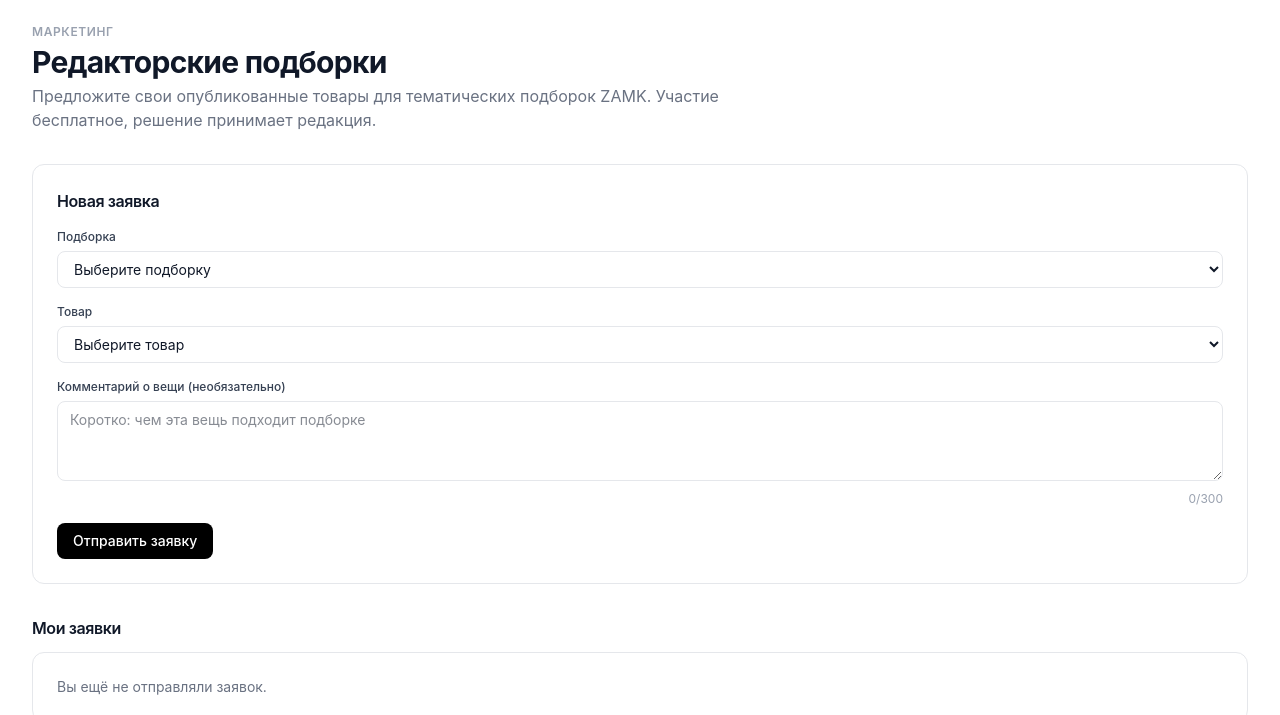
SellerCollections › requires a collection and a product before sending
Click the button with test id "submission-submit": coordinates (135, 541) 57,523 -> 213,559
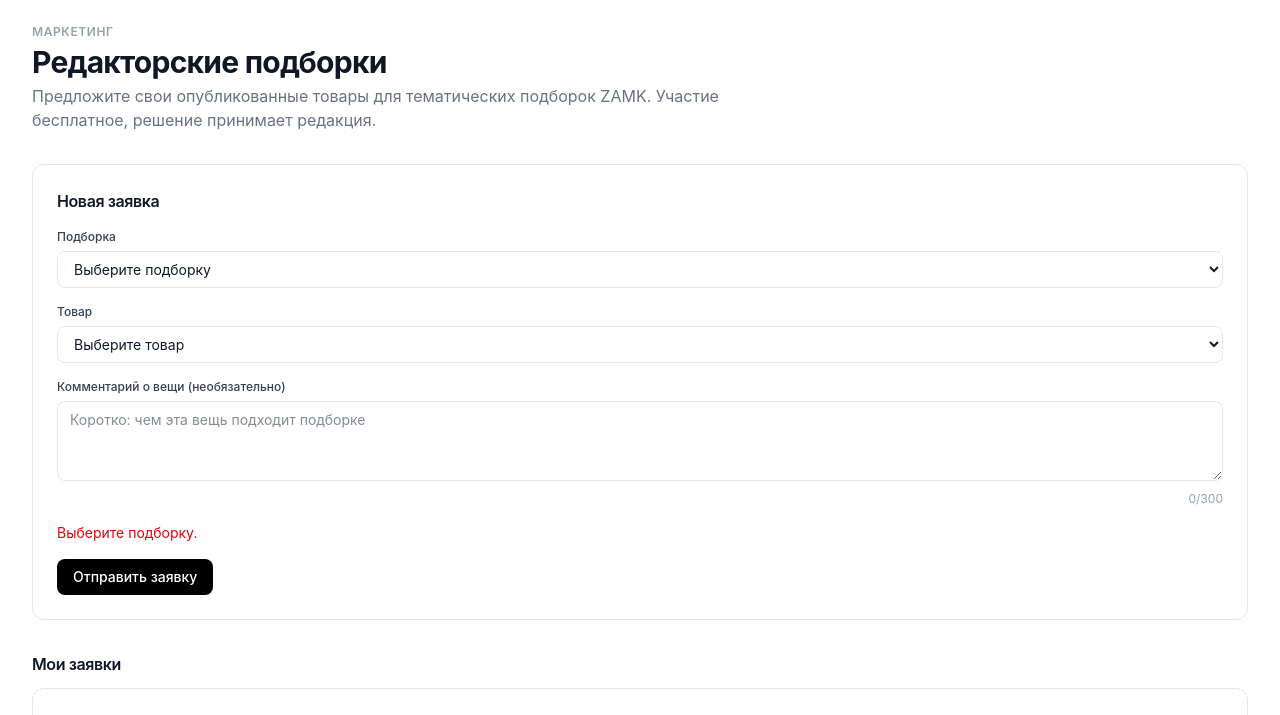
Check: the message shows "Выберите подборку", box 57,524 -> 197,541
Select "Лето" in the dropdown labelled "Подборка": coordinates (640, 270) 57,251 -> 1223,288
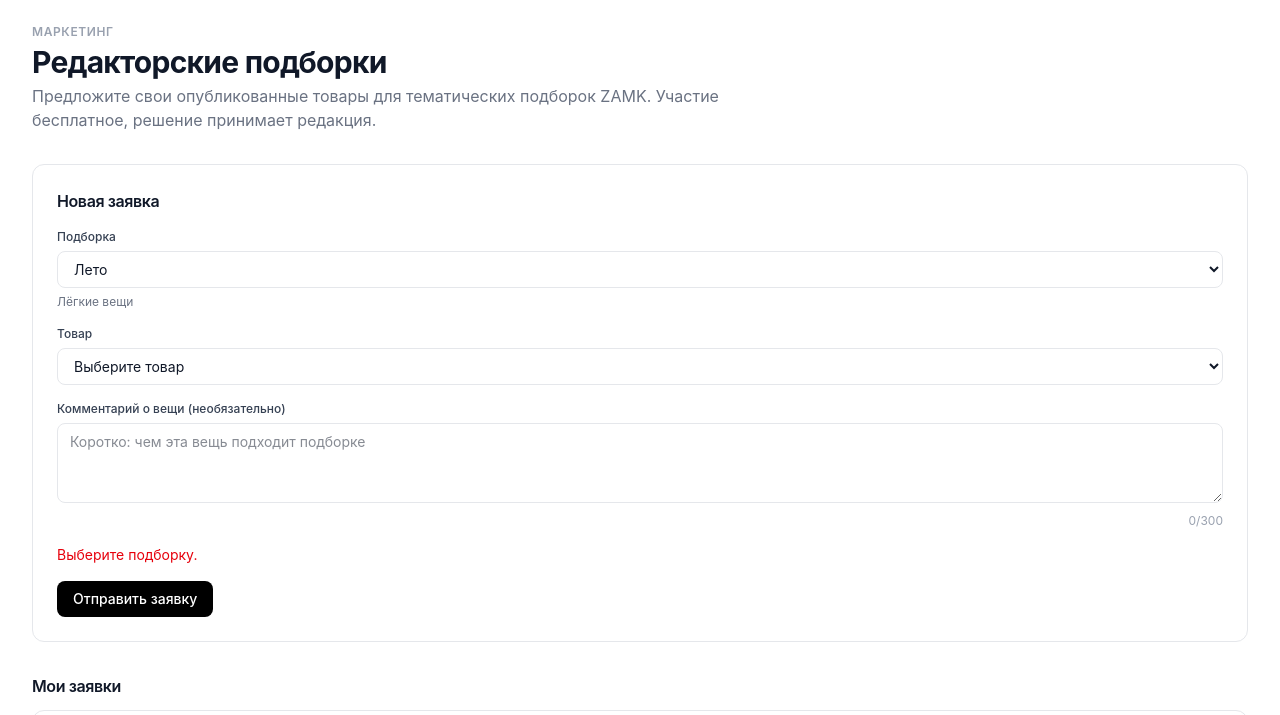
Click the button with test id "submission-submit": coordinates (135, 599) 57,581 -> 213,617
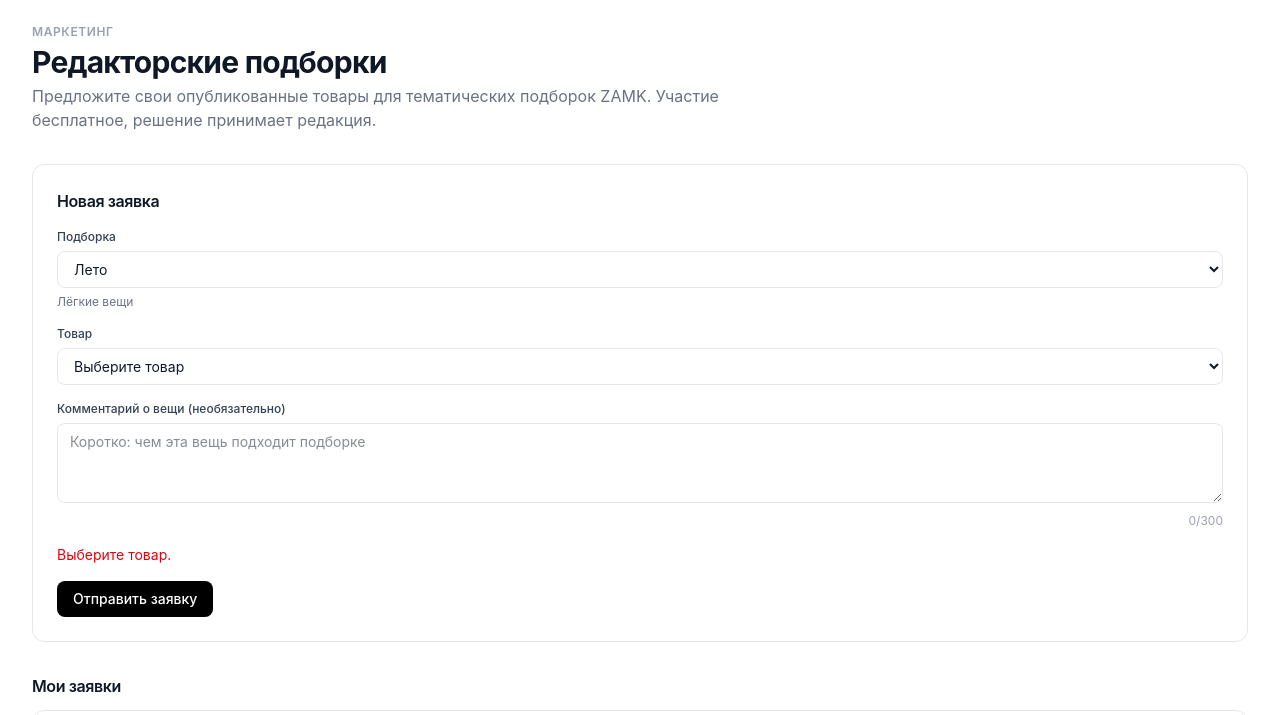
Check: the message shows "Выберите товар", box 57,546 -> 171,563
